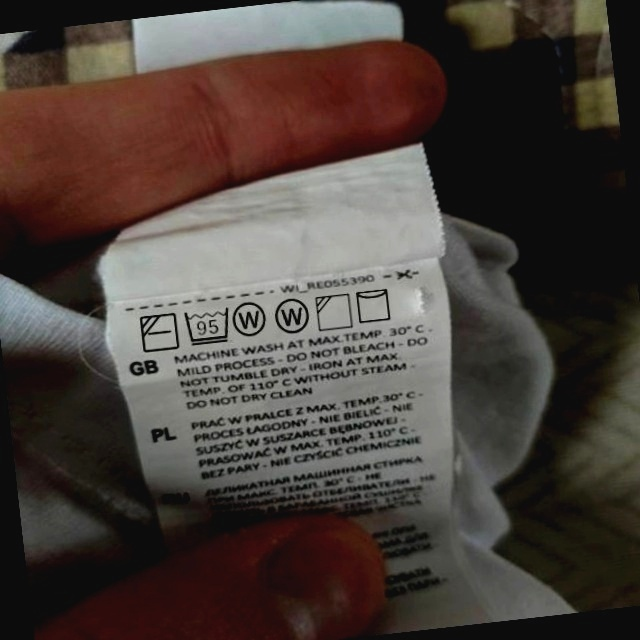95C: (182, 304, 234, 347)
dry_flat_in_shade: (137, 309, 181, 355)
line_dry: (353, 284, 396, 326)
shade_dry: (313, 290, 355, 333)
wet_clean: (272, 295, 313, 338), (231, 296, 270, 340)
